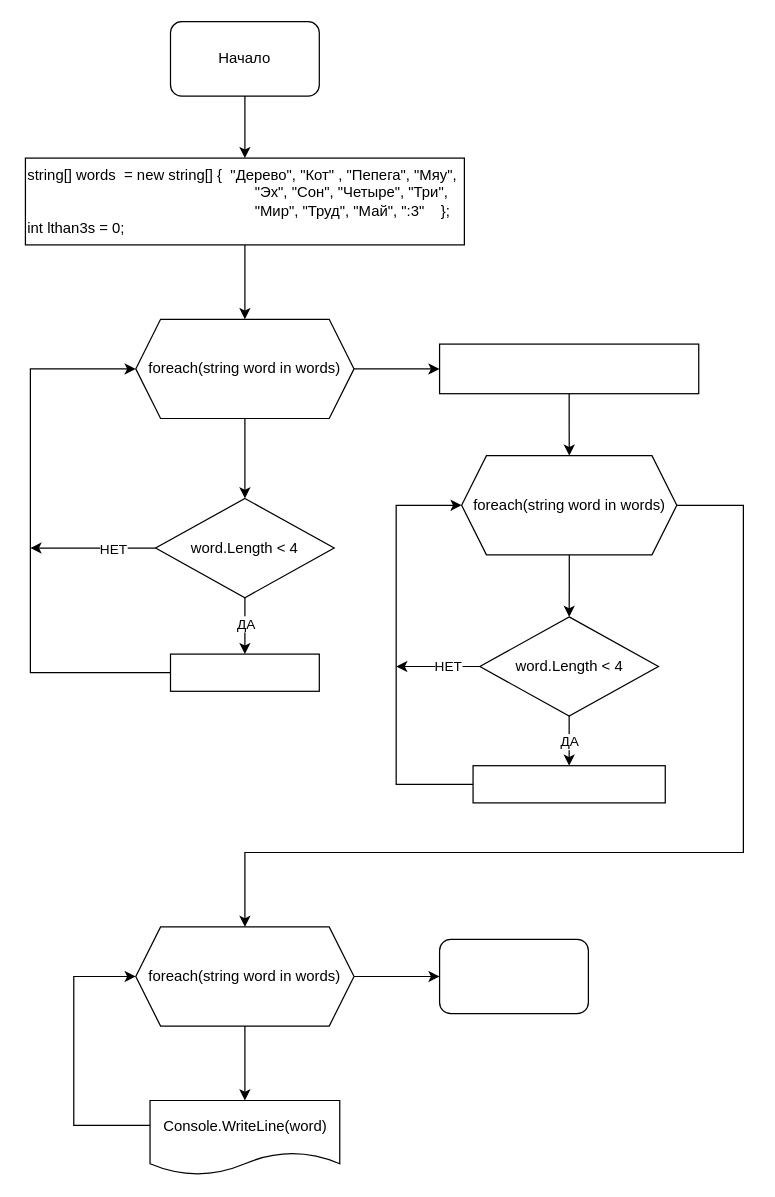
This 775x1197 diagram has some shape labels left out. The box of each missing label's shape, as (x1, y1, x2, y2) in pixels:
lthan3s++;: (169, 653, 319, 691)
result[forward++] = word;: (472, 764, 665, 803)
string[] result = new string[lthan3s]; int forward = 0;: (438, 343, 699, 394)
Конец: (438, 938, 588, 1014)
